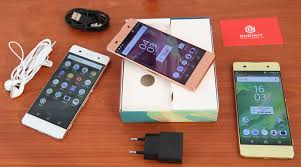sony: (230, 56, 294, 161)
